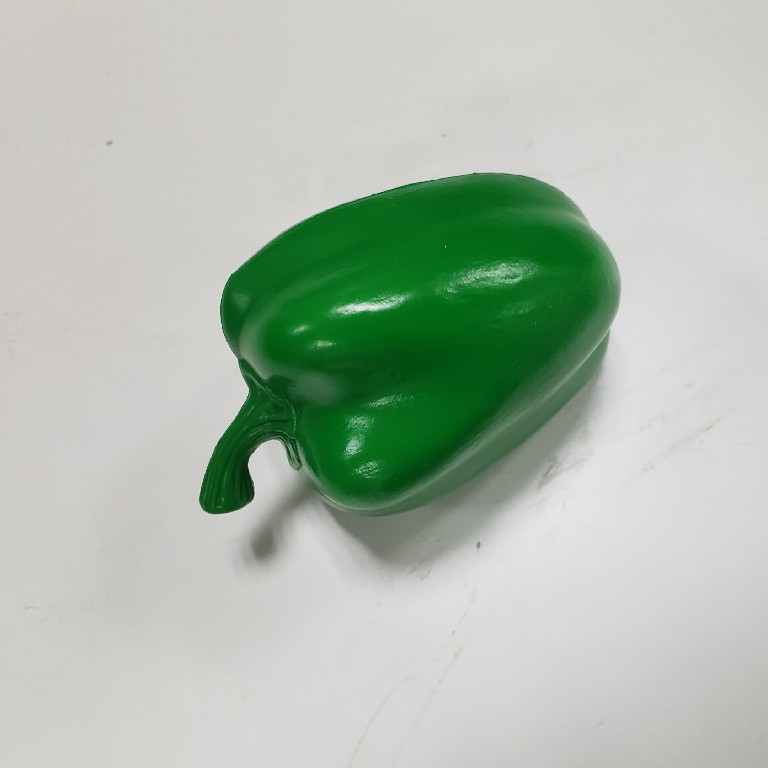fruit_pepper: (183, 152, 632, 533)
